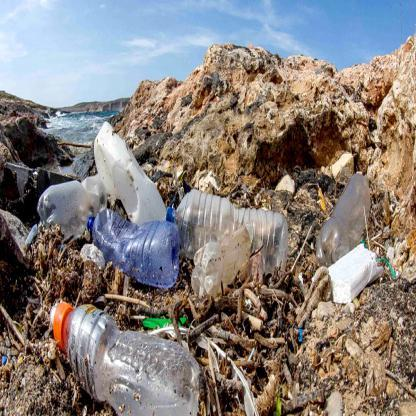Plastic: (52, 294, 200, 416), (164, 184, 289, 285), (93, 121, 172, 238), (86, 204, 178, 290), (318, 166, 374, 270), (37, 178, 98, 236)
